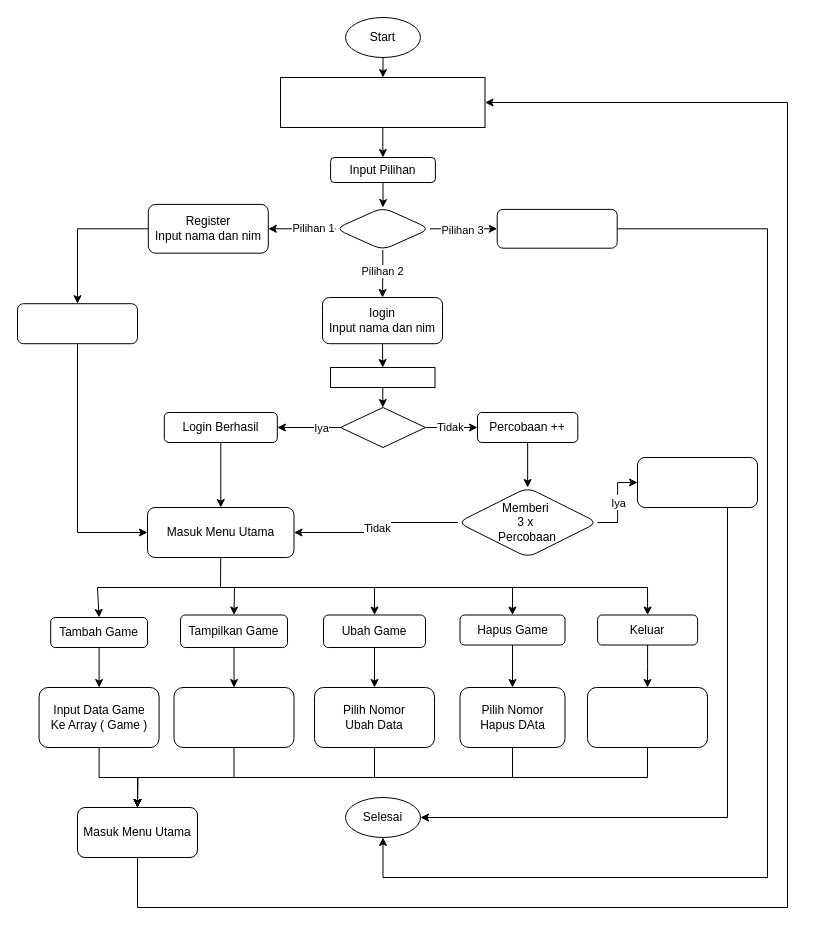
Image size: 813x933. Some labels were removed from this diagram. Here are the shapes that lost their labels. From the top down, the centre of each, then its label:
the point at 382,102: Tampilkan Menu Awal (1. Register | 2. Login | 3. Keluar)
the point at 382,228: Pilihan
the point at 556,228: Keluar Program Selesai
the point at 77,323: Simpan Ke Array ( User )
the point at 382,377: Cek Array User
the point at 383,427: Cocok
the point at 697,482: Tampilkan '3 x Gagal' Program Berhenti
the point at 233,717: Tampilkan Tabel No, Nama, Game, dan Tahun
the point at 647,717: Kembali Ke Menu Awal
